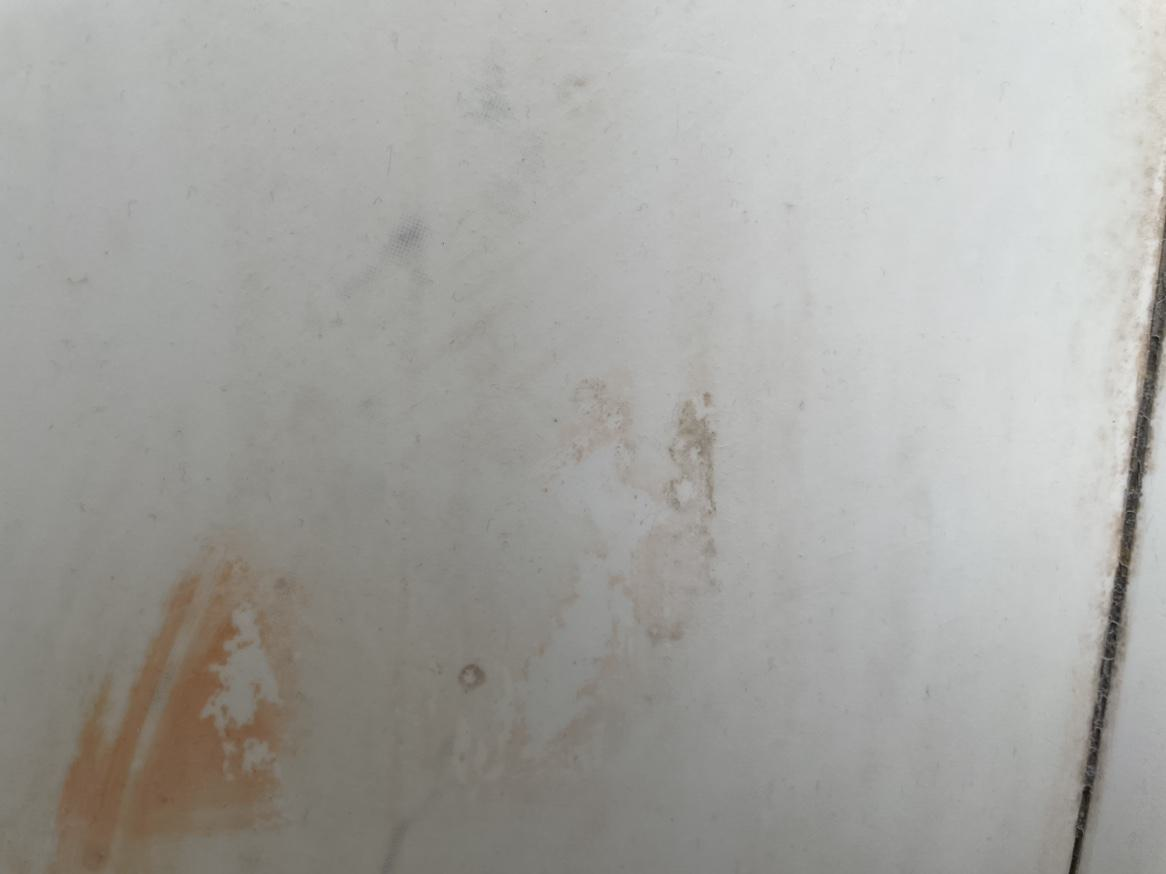Corrosion: (51, 553, 291, 874)
